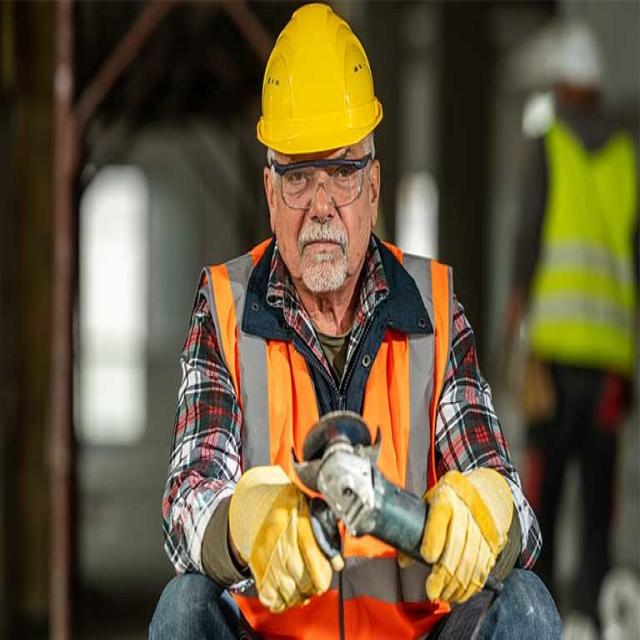Gloves: (228, 456, 350, 620), (418, 460, 516, 610)
Hard Hat: (256, 1, 390, 164)
Reflective Vest: (186, 220, 458, 640)
Safety Glasses: (263, 149, 381, 212)
